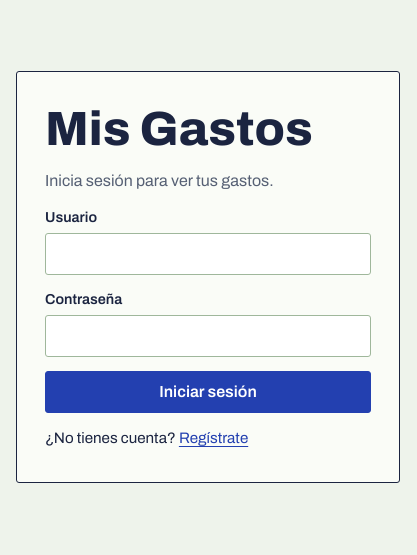
Scenario: LoginPage: too many attempts (429) › rounds a wait shorter than a minute in a readable way
Step 1. Type "ana" into the field labelled "Usuario" → (208, 254), box [45,233,371,275]
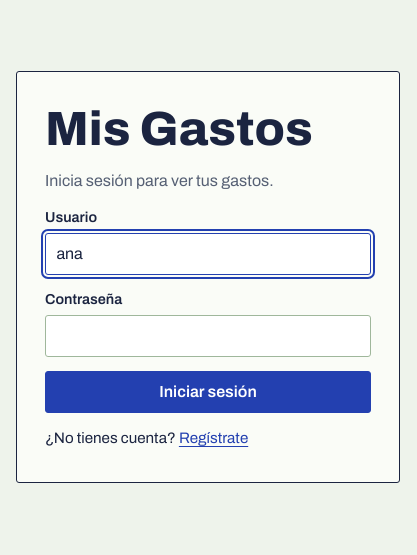
Step 2. Type "secreto-123" into the password field labelled "Contraseña" → (208, 336), box [45,315,371,357]
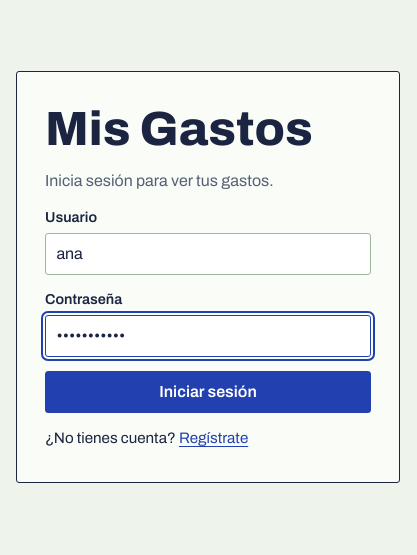
Step 3. Click the button "Iniciar sesión" → (208, 392), box [45,371,371,413]
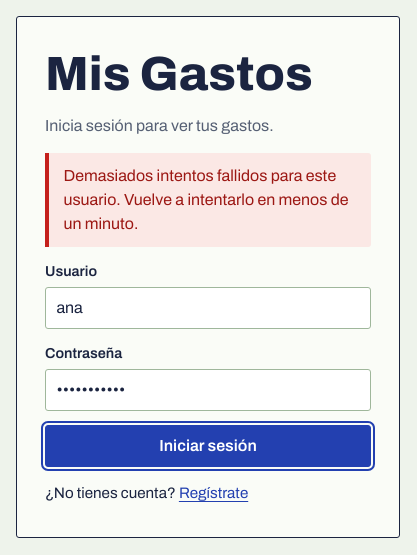
Result: the message shows "Vuelve a intentarlo en menos de un minuto." at [63,167,348,232]
